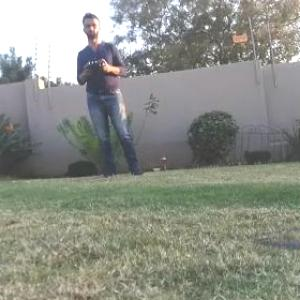follow: (74, 2, 150, 181)
